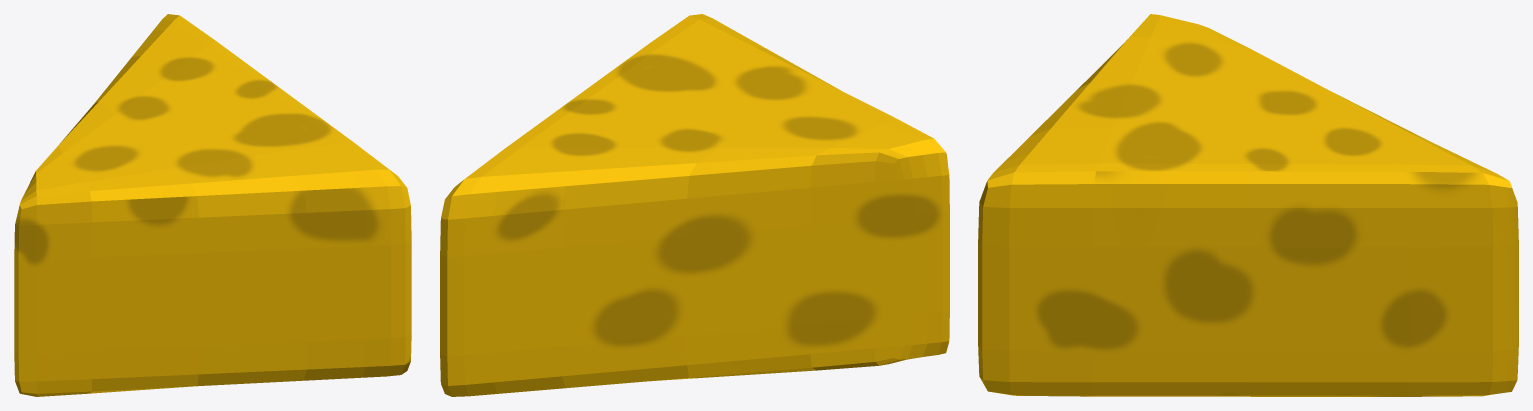
File: Cheese.fbx
The picture shows the model from 3 angles, left to right: view 1: azimuth 30°, elevation 25°; view 2: azimuth 150°, elevation 25°; view 3: azimuth 270°, elevation 25°; orthographic projection. The views are drawn at different scales.
Parts seen in each view (by area): view 1: CreamCheese; view 2: CreamCheese; view 3: CreamCheese.
Boxes of the visible parts, left/top/right/bottom form: CreamCheese: left=14, top=14, right=411, bottom=396; CreamCheese: left=440, top=14, right=949, bottom=396; CreamCheese: left=978, top=14, right=1518, bottom=396.
Bounding box in the file's own units: 5.6 × 7.33 × 3.4.
Materials: 1 (1 with a texture image).
